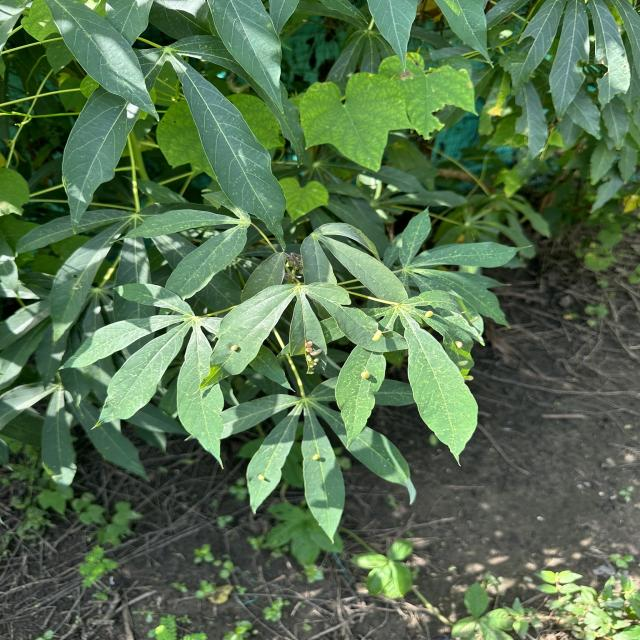Maleza: (305, 47, 481, 172), (440, 549, 640, 640), (271, 174, 330, 223)
Mosca: (300, 335, 323, 377), (452, 359, 480, 392), (349, 366, 377, 382), (369, 324, 388, 344), (228, 340, 245, 360), (254, 471, 272, 487), (419, 307, 435, 319), (309, 452, 325, 464), (453, 336, 463, 349)
